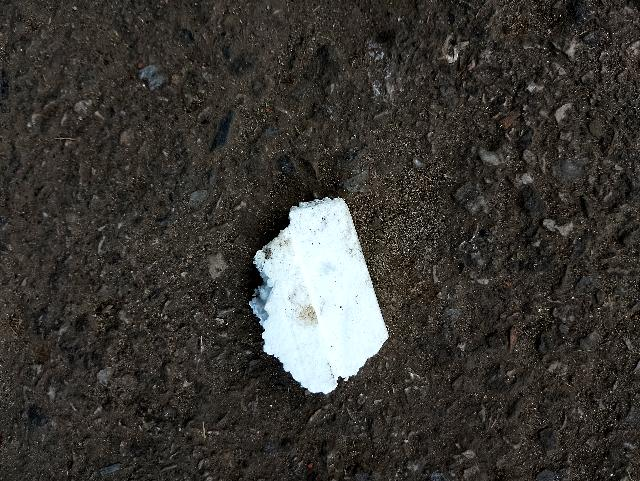cocksheet: (241, 199, 392, 391)
